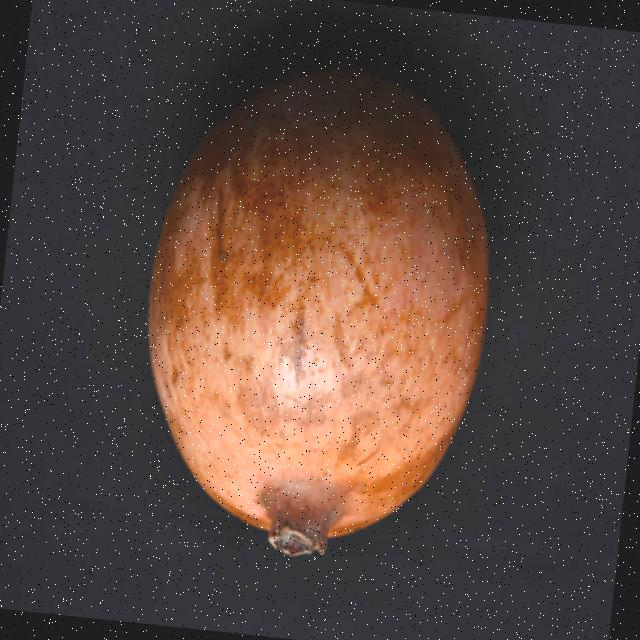overripe: (122, 48, 513, 577)
